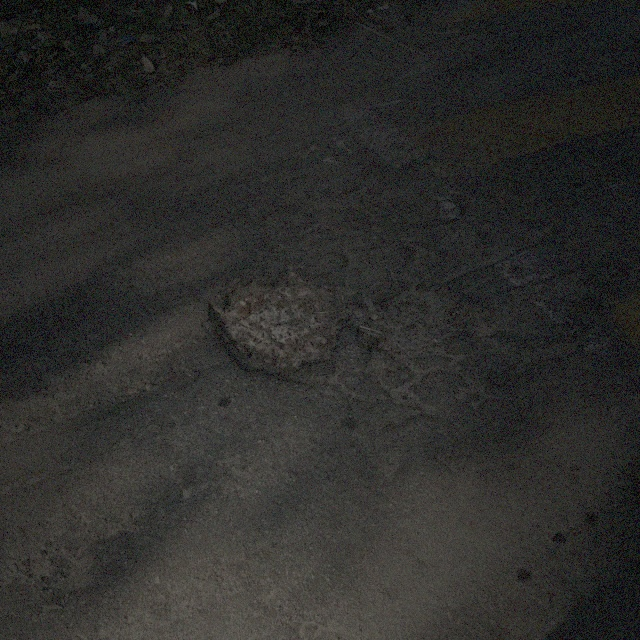pothole: (202, 269, 349, 383), (352, 281, 492, 364)
